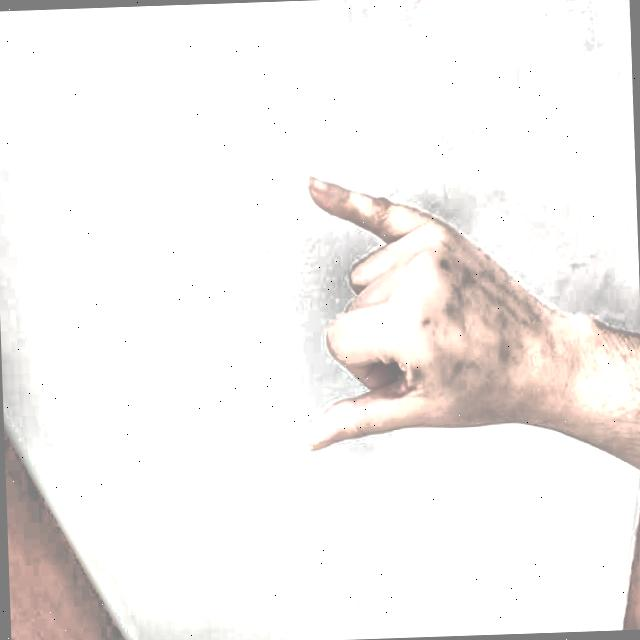Oi: (256, 128, 556, 488)
